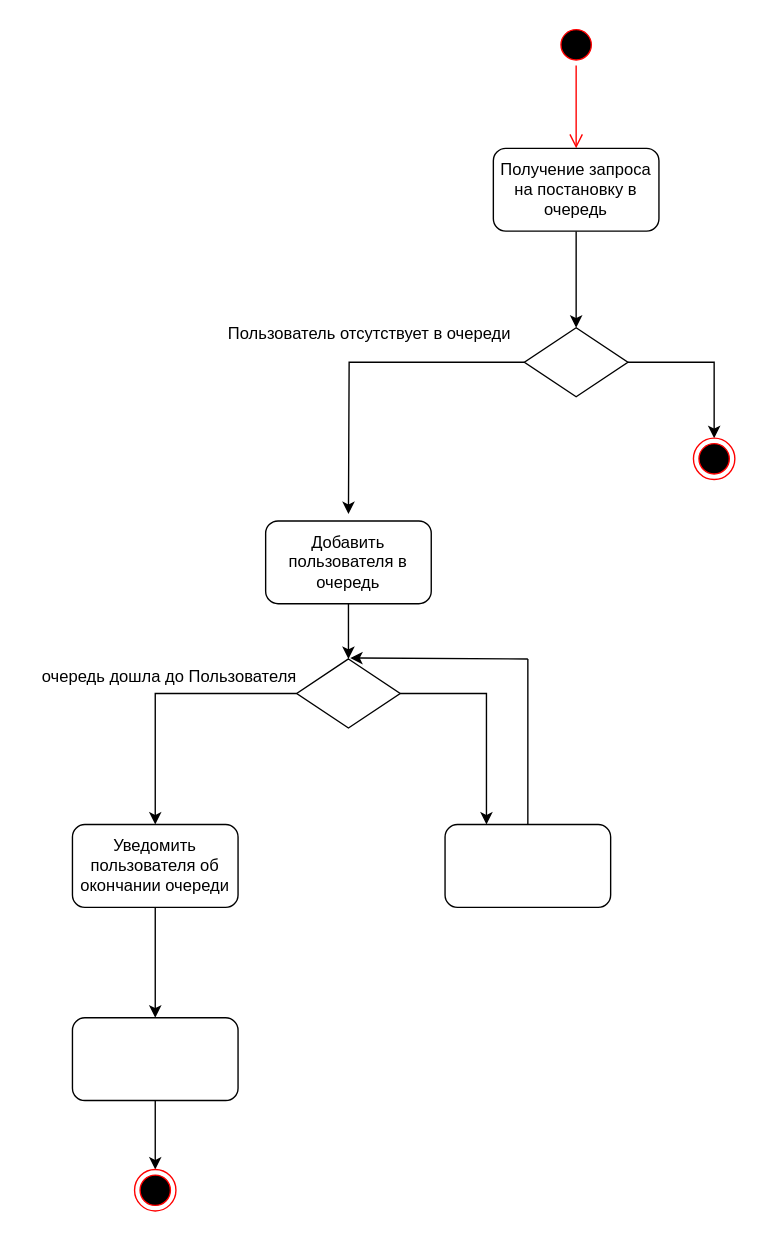
The diagram is 759 pixels wide and 1235 high, and some of its shapes have lost their labels. The shapes that lost their labels are listed below. From the top down, each one's box as (x1, y1, x2, y2) in pixels, then its label:
(444, 823, 611, 907): Ожидание
(71, 1016, 238, 1101): Удалить пользователя из очереди
